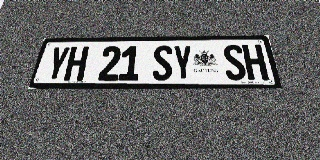1: (118, 46, 140, 81)
2: (98, 46, 121, 81)
H: (242, 44, 269, 80), (63, 46, 89, 81)
S: (222, 45, 247, 80), (152, 45, 172, 81)
Y: (44, 47, 71, 81), (173, 45, 193, 80)
